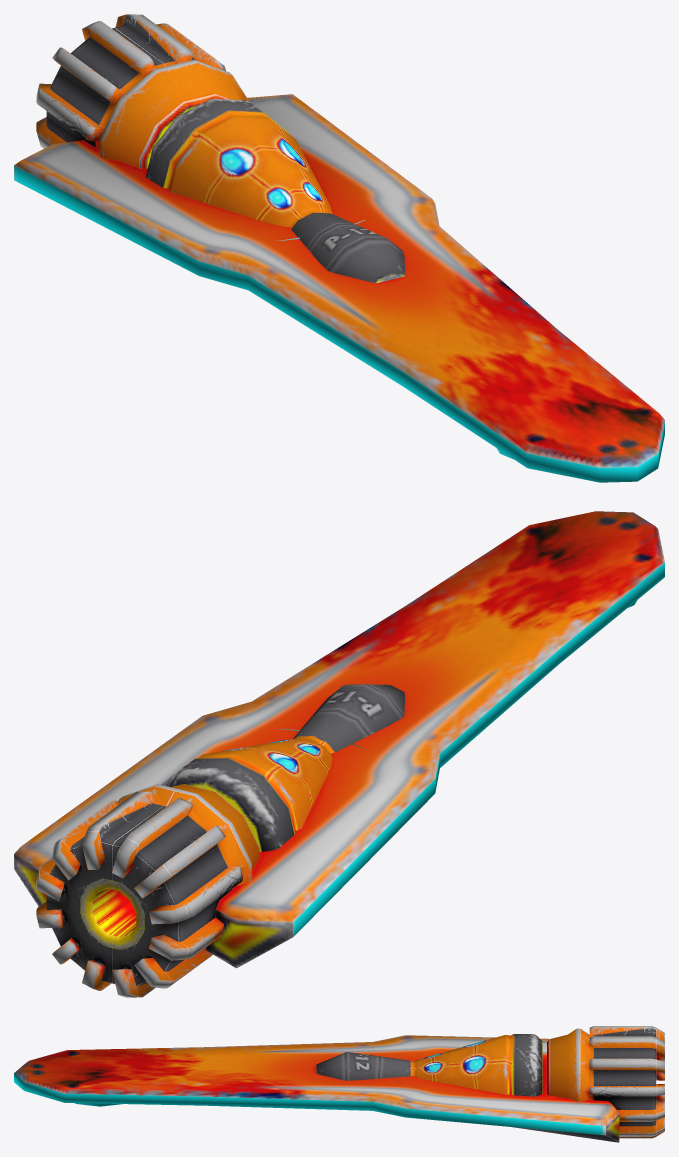
File: HOVERBOARD7.FBX
3 views of the same model, one above another, from view 1: azimuth 30°, elevation 25°; view 2: azimuth 150°, elevation 25°; view 3: azimuth 270°, elevation 25° (orthographic). The views are drawn at different scales.
Parts seen in each view (by area): view 1: HOVERBOARD7; view 2: HOVERBOARD7; view 3: HOVERBOARD7.
Part boxes in pixels (x1,y1,x2,y2): HOVERBOARD7: (14, 14, 664, 482); HOVERBOARD7: (14, 511, 664, 997); HOVERBOARD7: (14, 1026, 664, 1142).
Bounding box in the file's own units: 9.29 × 5.22 × 30.65.
